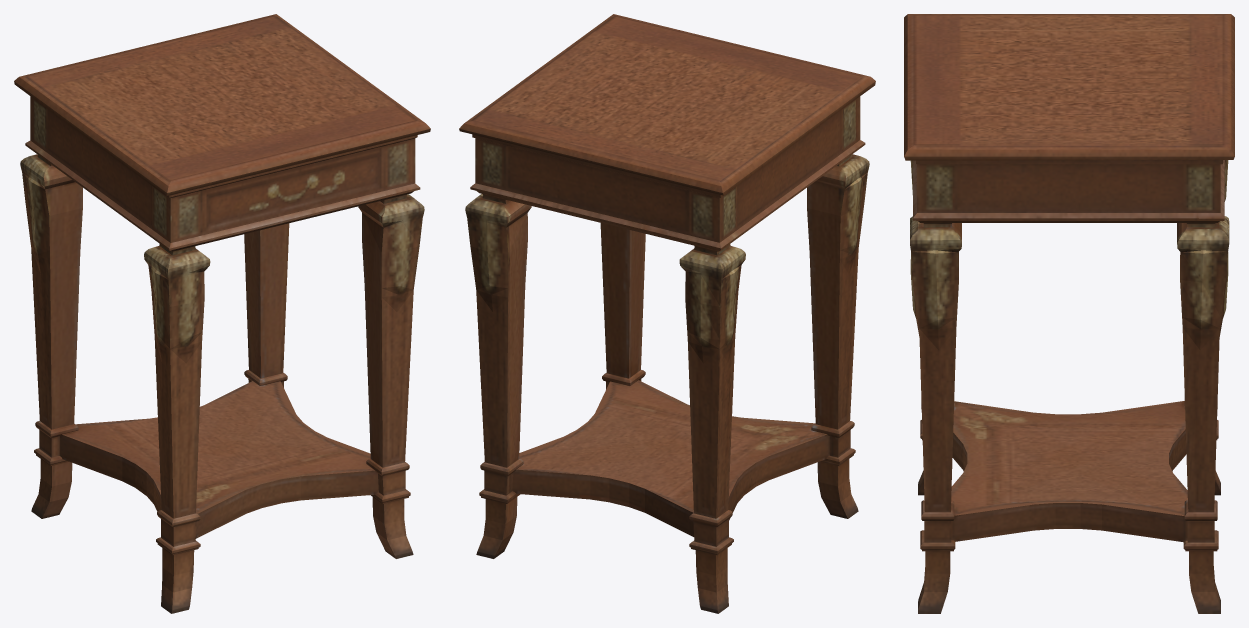
Rendered from HallSideTable.fbx.
3 views of the same model, side by side, from view 1: azimuth 30°, elevation 25°; view 2: azimuth 150°, elevation 25°; view 3: azimuth 270°, elevation 25° (orthographic). The views are drawn at different scales.
Parts seen in each view (by area): view 1: HallSideTable_Low; view 2: HallSideTable_Low; view 3: HallSideTable_Low.
Boxes of the visible parts, x1,y1,x2,y2 form: HallSideTable_Low: [14, 14, 430, 613]; HallSideTable_Low: [459, 14, 875, 613]; HallSideTable_Low: [904, 14, 1234, 613].
Bounding box in the file's own units: 0.4895 × 0.7706 × 0.4918.
